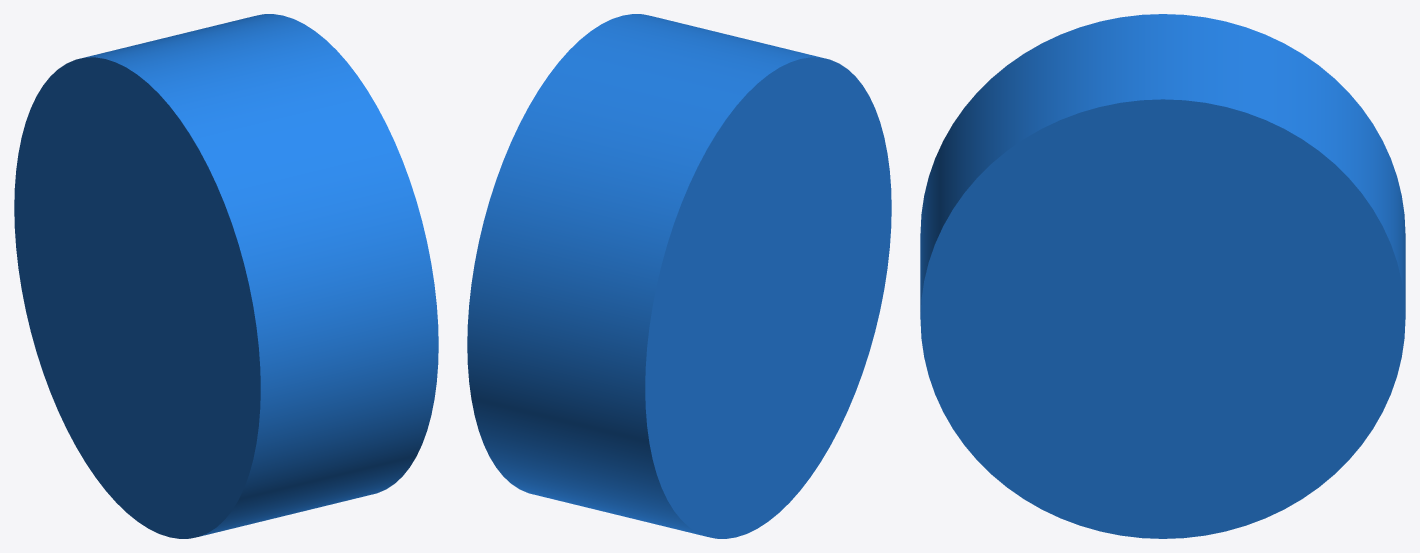
Rendered from bs2101-3-side-cap-blue-solid.glb.
3 renders of one model, left to right at view 1: azimuth 30°, elevation 25°; view 2: azimuth 150°, elevation 25°; view 3: azimuth 270°, elevation 25°, orthographic.
Parts seen in each view (by area): view 1: Side_Cap_BS2101_3_Blue_Solid_Functional_Geometry; view 2: Side_Cap_BS2101_3_Blue_Solid_Functional_Geometry; view 3: Side_Cap_BS2101_3_Blue_Solid_Functional_Geometry.
Boxes of the visible parts, bbox=[...] form: Side_Cap_BS2101_3_Blue_Solid_Functional_Geometry: bbox=[14, 14, 438, 538]; Side_Cap_BS2101_3_Blue_Solid_Functional_Geometry: bbox=[467, 14, 891, 538]; Side_Cap_BS2101_3_Blue_Solid_Functional_Geometry: bbox=[920, 14, 1405, 538].
Size of the model in its own units: 0.005 by 0.012 by 0.012.
